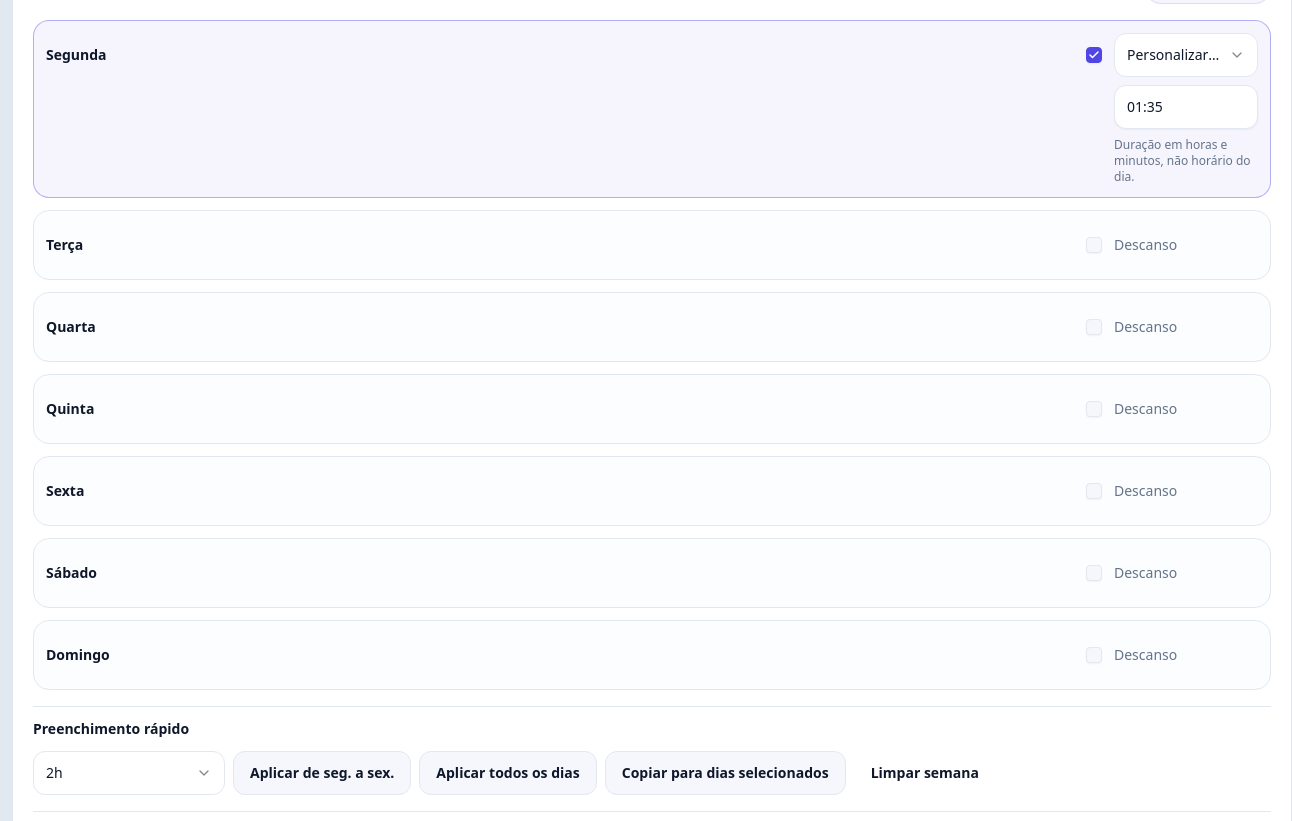
restaura a última duração ao reativar e exclui descanso do total
This screenshot has width=1292, height=821.
Click the checkbox named "Estudar na Segunda".
click(1094, 55)  # box top-left (1086, 47), bottom-right (1102, 63)
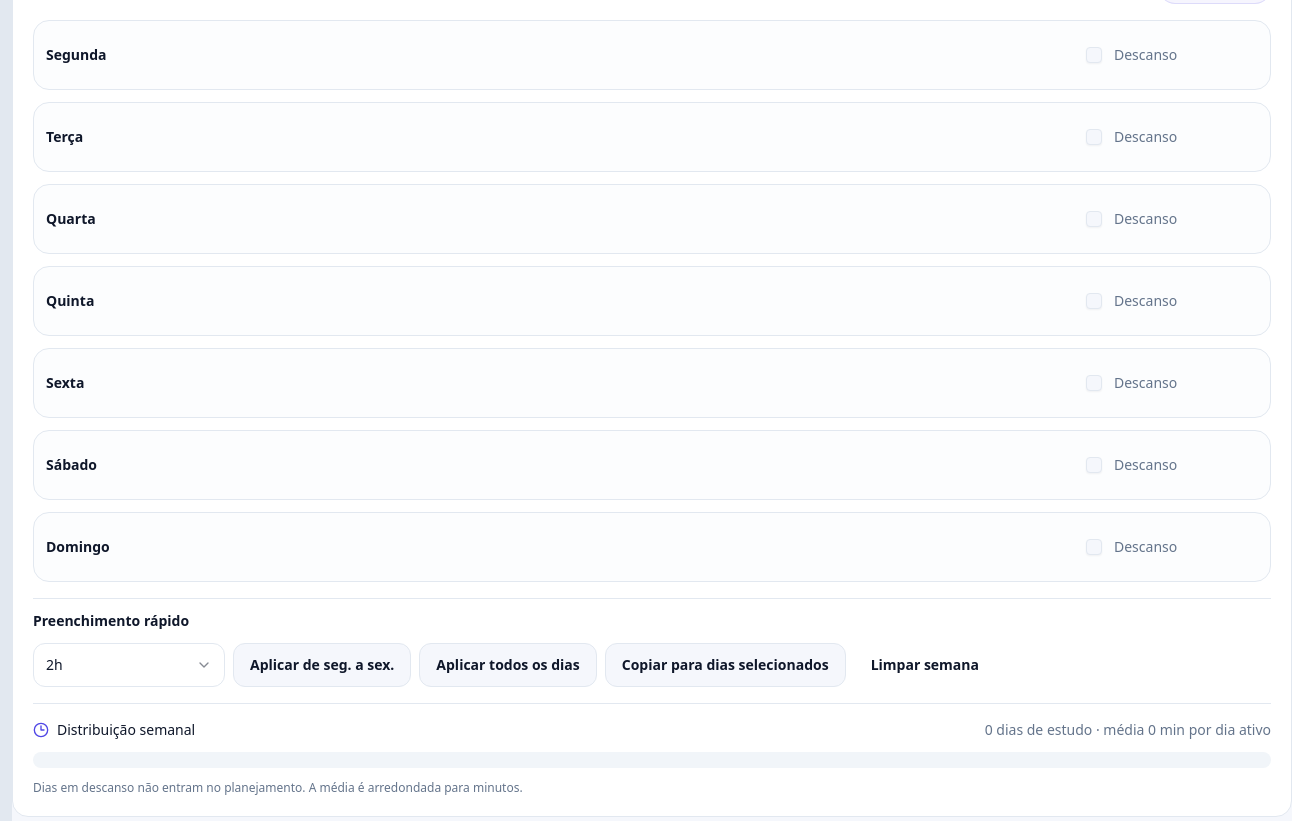
Click the checkbox named "Estudar na Segunda".
click(1094, 55)  # box top-left (1086, 47), bottom-right (1102, 63)
(page scrolled)
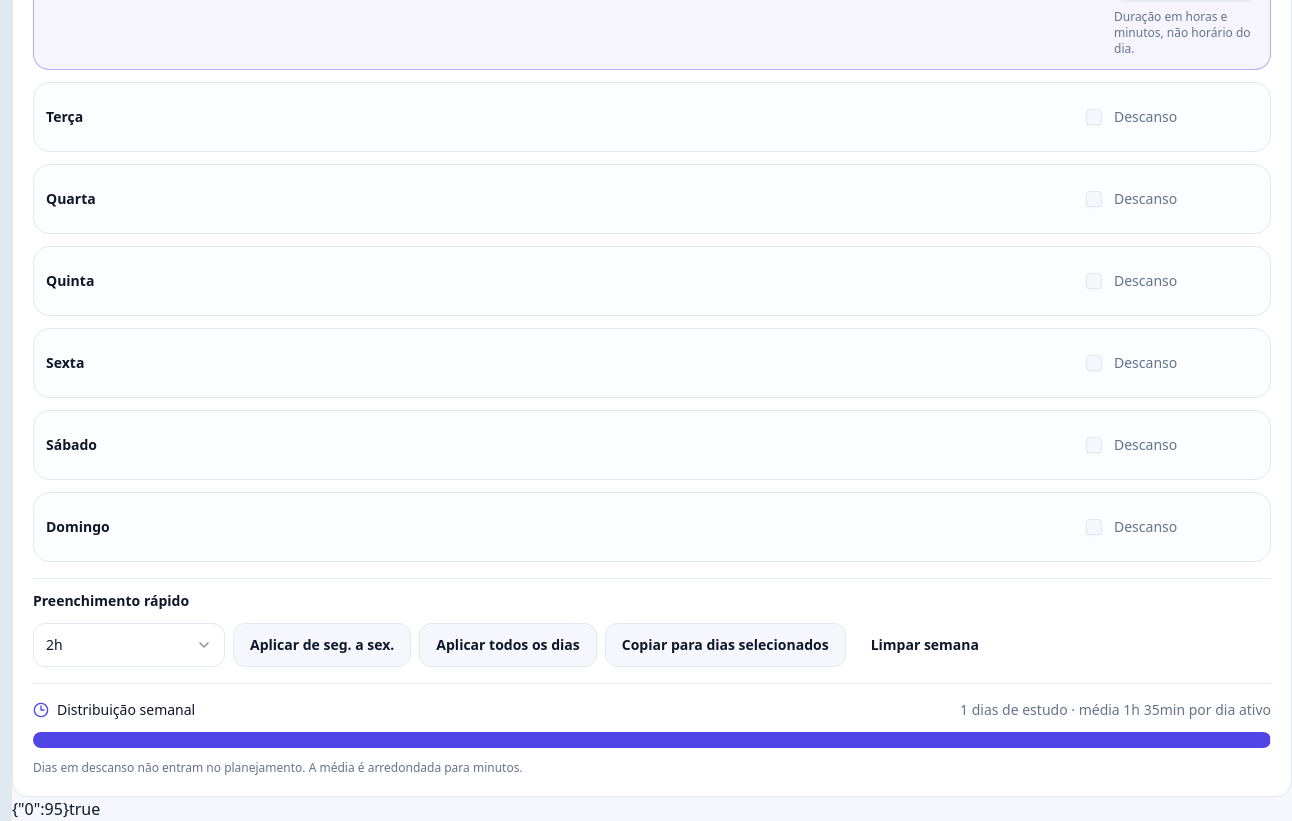
expect the text with test id "minutes" shows "\"0\":95": met, box top-left (12, 798), bottom-right (69, 820)
